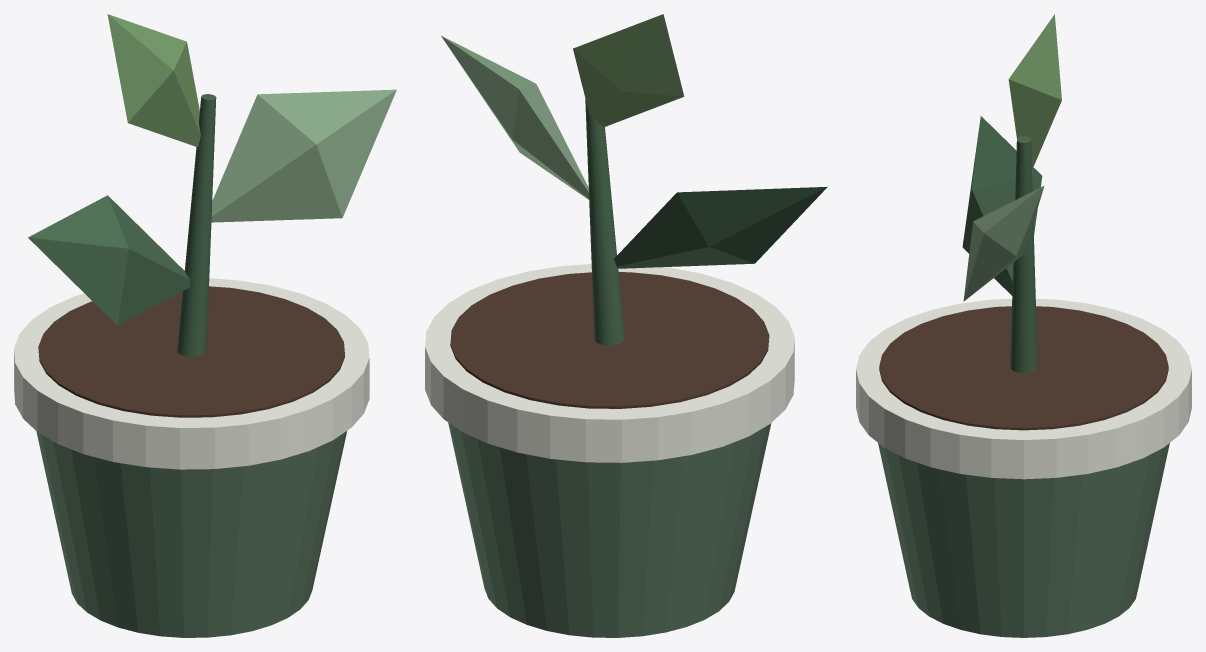
Rendered from pot.glb.
3 renders of one model, left to right at view 1: azimuth 30°, elevation 25°; view 2: azimuth 150°, elevation 25°; view 3: azimuth 270°, elevation 25°, orthographic. The views are drawn at different scales.
Visible parts, largest first — view 1: ceramic pot, soil, rim, leaf 2, leaf 1, leaf 3, stem; view 2: ceramic pot, soil, rim, leaf 1, leaf 3, leaf 2, stem; view 3: ceramic pot, soil, rim, leaf 3, leaf 2, leaf 1, stem.
Part boxes in pixels (x1,y1,x2,y2): ceramic pot: [36, 431, 346, 637]; soil: [38, 286, 344, 417]; rim: [14, 278, 369, 469]; leaf 2: [211, 89, 396, 222]; leaf 1: [28, 195, 190, 325]; leaf 3: [107, 14, 200, 147]; stem: [177, 94, 216, 356]; ceramic pot: [448, 422, 771, 637]; soil: [450, 272, 769, 408]; rim: [425, 264, 794, 462]; leaf 1: [614, 186, 827, 268]; leaf 3: [573, 14, 684, 127]; leaf 2: [441, 36, 589, 199]; stem: [585, 99, 624, 345]; ceramic pot: [878, 443, 1169, 637]; soil: [879, 306, 1168, 430]; rim: [856, 298, 1191, 479]; leaf 3: [1008, 14, 1061, 169]; leaf 2: [963, 186, 1044, 301]; leaf 1: [962, 116, 1042, 295]; stem: [1010, 136, 1037, 372].
Size of the model in its own units: 1.31 by 1.95 by 1.09.
